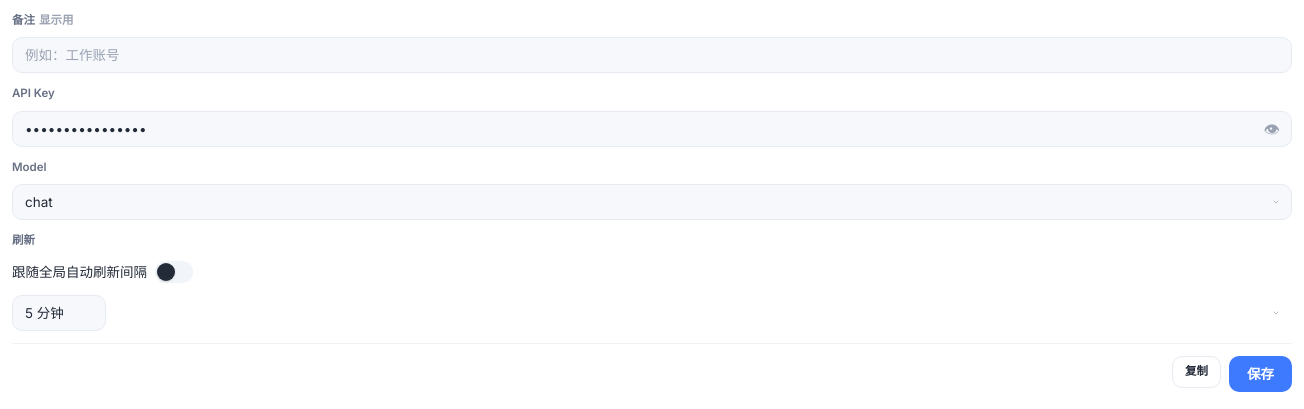
Test case: SettingsForm › disables duplicate while the duplicate request is pending
Click the button with test id "settings-duplicate-btn-deepseek". click: {"x": 1196, "y": 372}
box: [1172,356,1221,388]
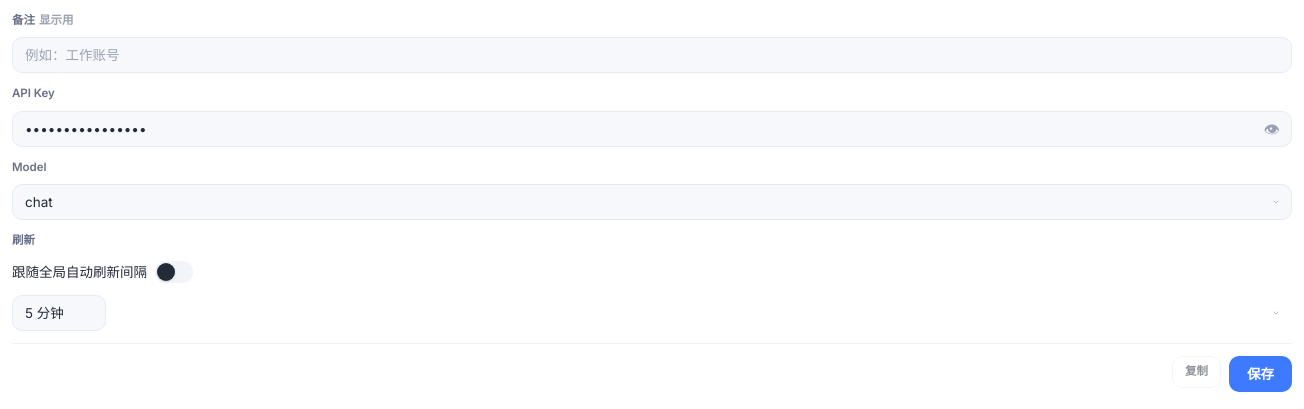
Expected: the button with test id "settings-duplicate-btn-deepseek" is disabled
Click the button with test id "settings-duplicate-btn-deepseek". click: {"x": 1196, "y": 372}
box: [1172,356,1221,388]
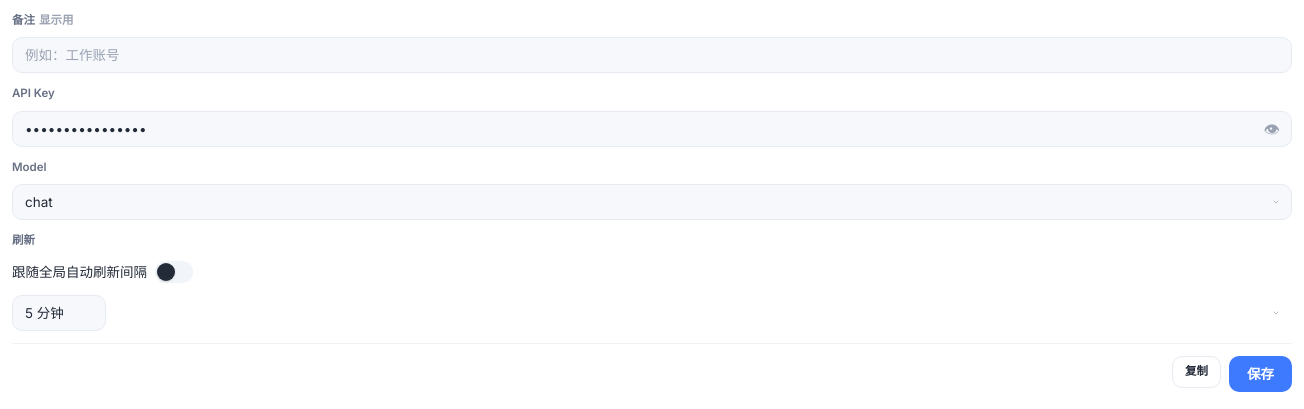
Expected: the button with test id "settings-duplicate-btn-deepseek" is enabled, [1172,356,1221,388]
